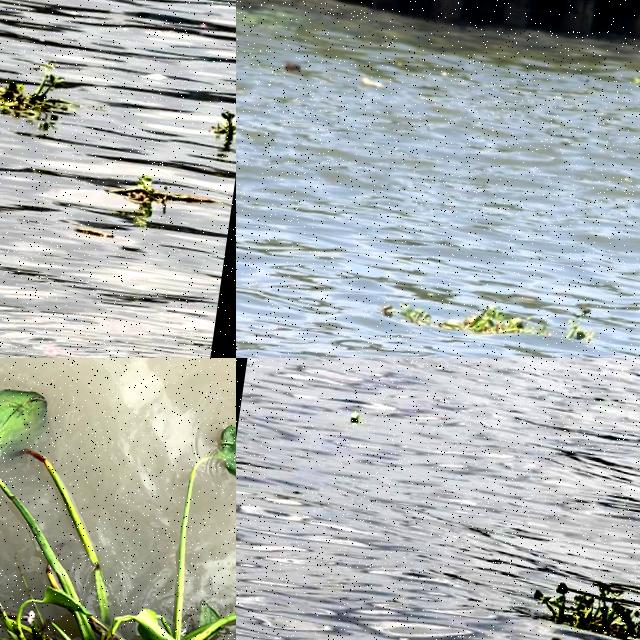water-hyacinth: (1, 359, 237, 640), (394, 284, 594, 353), (1, 43, 102, 128), (533, 573, 640, 640), (117, 170, 177, 221), (214, 106, 237, 148)
